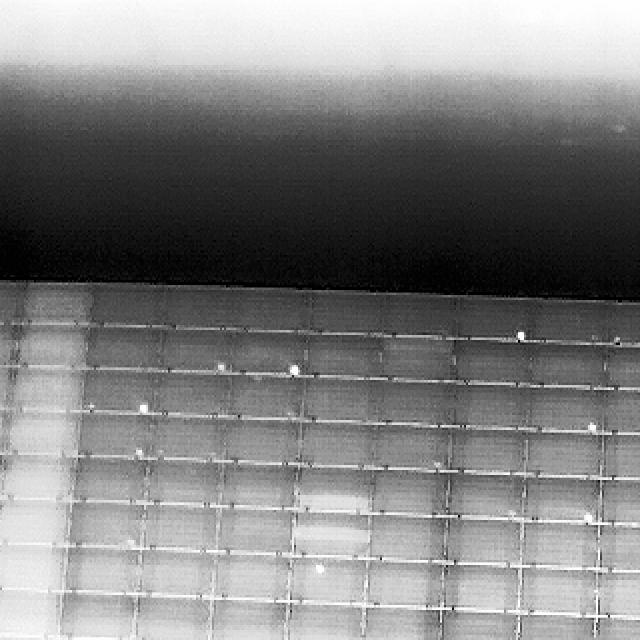Hotspots: (293, 522, 373, 544), (292, 489, 373, 510), (514, 329, 530, 345), (504, 505, 521, 519), (314, 564, 328, 579), (136, 402, 152, 413), (289, 364, 301, 377), (587, 421, 598, 435), (124, 537, 138, 547), (584, 511, 593, 526), (135, 447, 147, 457), (218, 360, 227, 372), (432, 459, 442, 469), (87, 401, 99, 409)
PV-modules: (528, 298, 618, 344), (445, 473, 527, 521), (444, 520, 524, 569), (453, 337, 533, 386), (146, 461, 227, 509), (305, 373, 384, 422), (300, 418, 379, 467), (141, 549, 218, 599), (64, 546, 144, 594), (224, 417, 304, 465), (143, 502, 223, 550), (296, 466, 376, 514), (364, 560, 444, 608), (292, 557, 370, 606), (80, 413, 161, 460), (159, 328, 238, 376), (216, 552, 295, 600), (221, 505, 298, 554), (529, 388, 609, 435), (85, 367, 163, 415), (56, 592, 134, 640), (448, 428, 529, 474), (526, 431, 605, 478), (523, 524, 600, 572), (444, 562, 521, 610), (521, 567, 598, 615), (454, 382, 534, 428), (368, 518, 448, 564), (230, 331, 310, 377), (5, 456, 80, 505), (524, 477, 602, 524), (373, 471, 451, 518), (294, 514, 372, 561), (73, 458, 149, 506), (528, 344, 609, 389), (377, 424, 454, 471), (158, 372, 235, 419), (224, 465, 302, 511), (382, 336, 456, 384), (71, 501, 148, 547), (134, 595, 212, 640), (310, 288, 386, 334), (455, 294, 531, 340), (16, 365, 90, 412), (0, 500, 69, 550), (84, 327, 162, 371), (15, 325, 93, 369), (380, 379, 456, 424), (158, 416, 232, 462), (232, 372, 306, 418), (308, 335, 385, 379), (208, 597, 286, 640), (0, 545, 67, 595), (382, 296, 458, 340), (240, 288, 314, 333), (19, 283, 94, 327), (12, 412, 84, 457), (165, 286, 239, 329), (89, 285, 164, 327), (0, 589, 61, 637), (288, 605, 368, 640), (364, 605, 442, 640), (440, 607, 520, 640), (516, 612, 596, 640), (596, 570, 640, 618), (598, 527, 640, 575), (602, 435, 640, 483), (602, 477, 640, 525), (604, 390, 640, 438), (602, 345, 640, 390), (0, 276, 25, 325), (614, 300, 640, 345), (594, 617, 640, 640), (0, 324, 20, 368), (0, 364, 16, 412), (0, 405, 13, 457), (52, 635, 130, 640), (0, 635, 56, 640)
